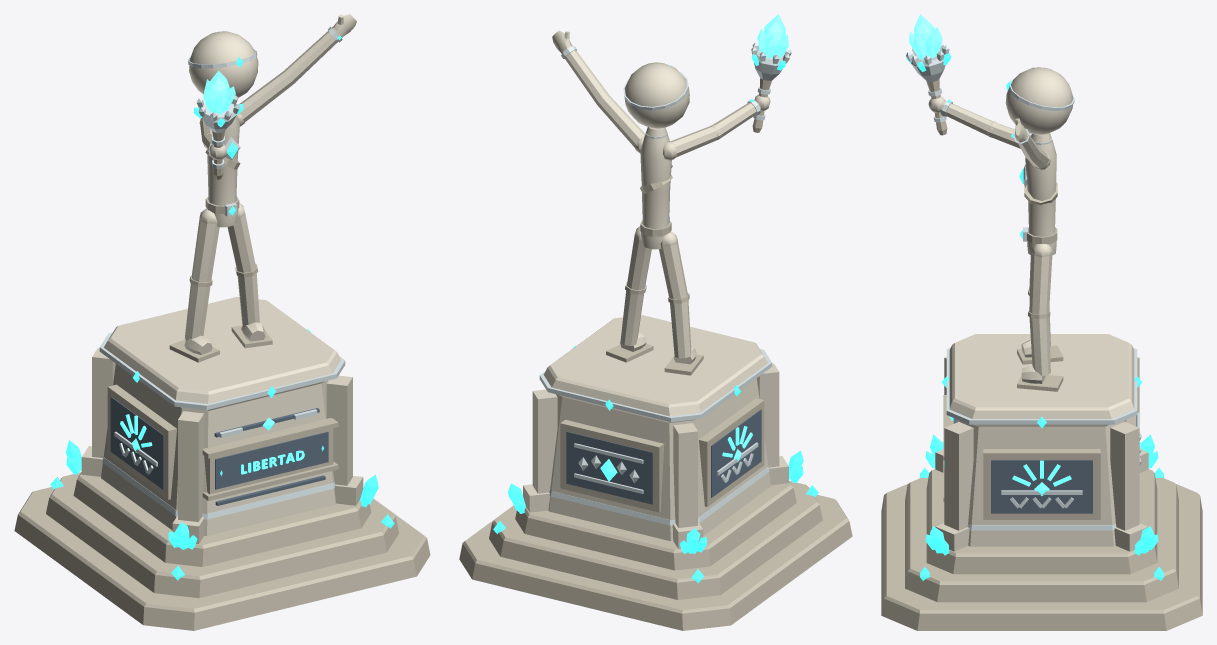
File: estatua aliada.fbx
3 views of the same model, side by side, from view 1: azimuth 30°, elevation 25°; view 2: azimuth 150°, elevation 25°; view 3: azimuth 270°, elevation 25° (orthographic). The views are drawn at different scales.
Visible parts, largest first — view 1: Statue_Liberty_Pedestal, Statue_Liberty_Stickman; view 2: Statue_Liberty_Pedestal, Statue_Liberty_Stickman; view 3: Statue_Liberty_Pedestal, Statue_Liberty_Stickman.
Part boxes in pixels (x1=…): Statue_Liberty_Pedestal: x1=14, y1=297, x2=430, y2=630; Statue_Liberty_Stickman: x1=169, y1=14, x2=356, y2=362; Statue_Liberty_Pedestal: x1=459, y1=315, x2=852, y2=630; Statue_Liberty_Stickman: x1=552, y1=14, x2=791, y2=375; Statue_Liberty_Pedestal: x1=881, y1=334, x2=1202, y2=630; Statue_Liberty_Stickman: x1=906, y1=14, x2=1074, y2=391.
Bounding box in the file's own units: 3.4 × 6.05 × 3.4.
